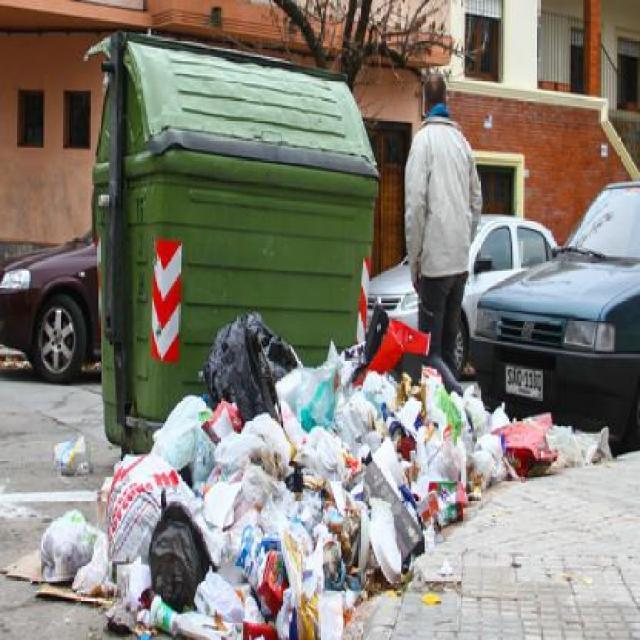garbage: (205, 319, 341, 635), (53, 434, 202, 638), (419, 386, 604, 479), (357, 311, 417, 580), (334, 342, 368, 580), (17, 522, 108, 601), (416, 489, 463, 522)
